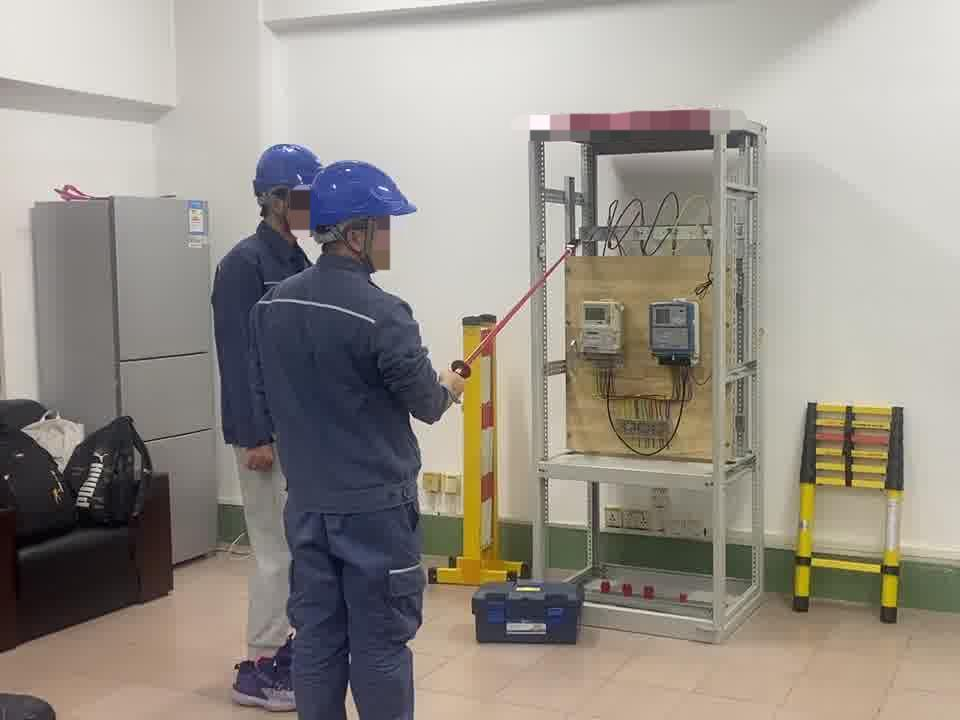halt: (309, 161, 421, 275), (254, 147, 322, 242)
inear: (333, 220, 382, 261), (264, 186, 300, 230)
